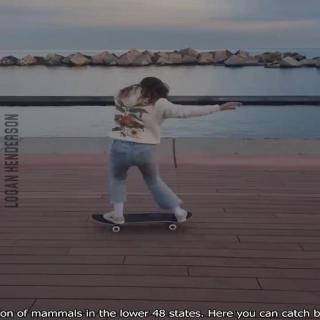person - v3 P: (103, 74, 211, 234)
